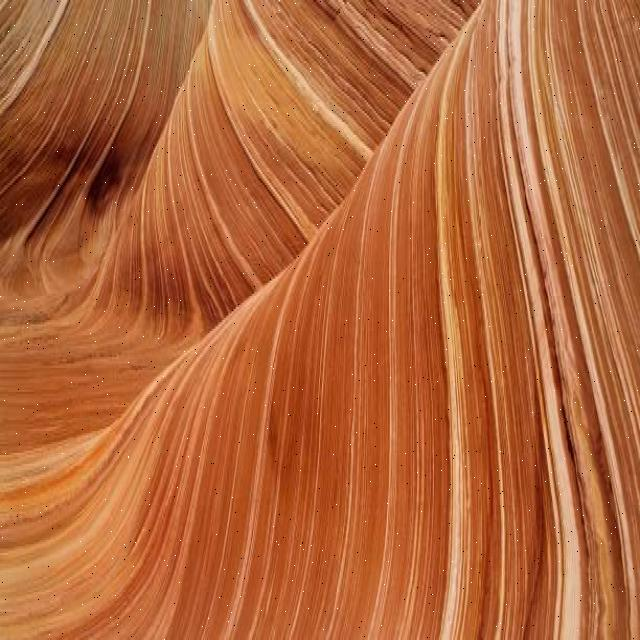Sedimentary: (1, 2, 639, 640)
